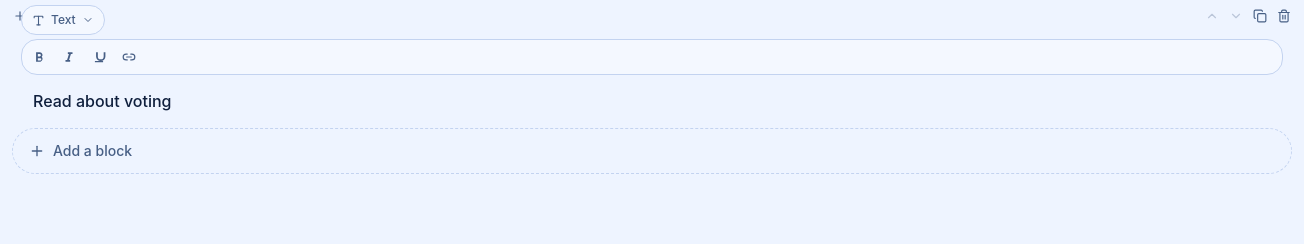
Test case: BlockEditor link insertion › opens the link editor on click
Press the mouse on the button named "Add or edit link" at x=129, y=57, box 116,44 -> 142,70
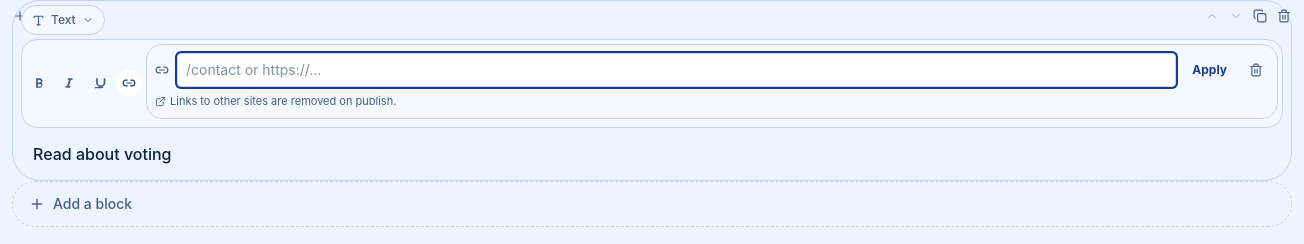
Now the field named "Link URL" is shown, box 177,53 -> 1176,87
